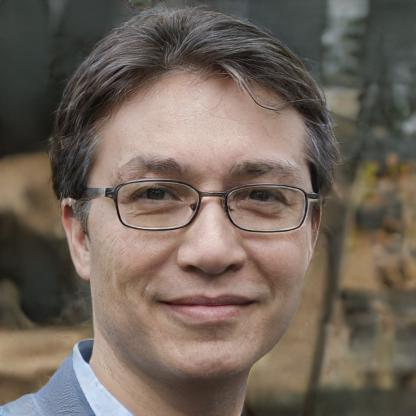glasses: (98, 175, 316, 239)
